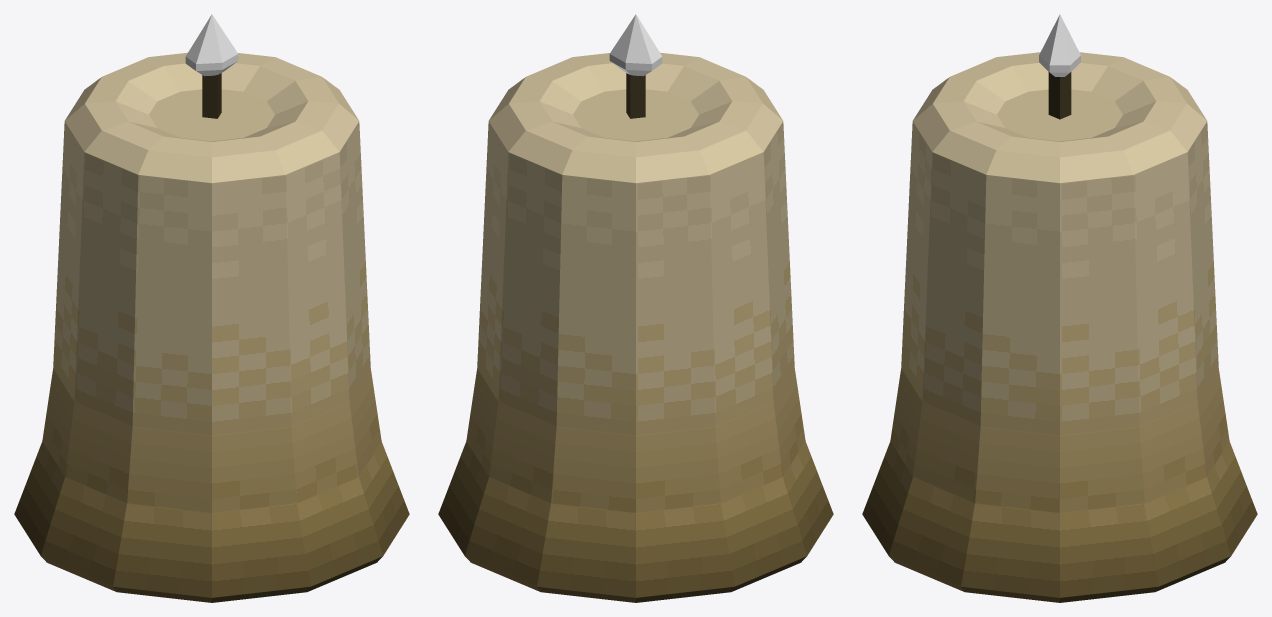
The model's file is vela_002.fbx.
3 views of the same model, side by side, from view 1: azimuth 30°, elevation 25°; view 2: azimuth 150°, elevation 25°; view 3: azimuth 270°, elevation 25° (orthographic).
Visible parts, largest first — view 1: Vela_02, Llama.001; view 2: Vela_02, Llama.001; view 3: Vela_02, Llama.001.
Boxes of the visible parts, box(x1,y1,x2,y2) form: Vela_02: box(14, 52, 409, 602); Llama.001: box(185, 14, 238, 76); Vela_02: box(438, 52, 833, 602); Llama.001: box(609, 14, 662, 76); Vela_02: box(862, 52, 1257, 602); Llama.001: box(1039, 14, 1080, 76).
Size of the model in its own units: 131 by 187 by 131.
